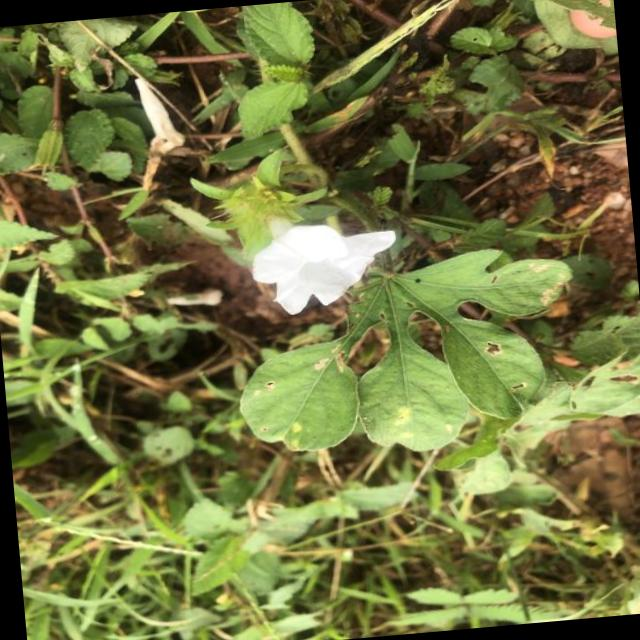ipomoea: (243, 210, 406, 320)
